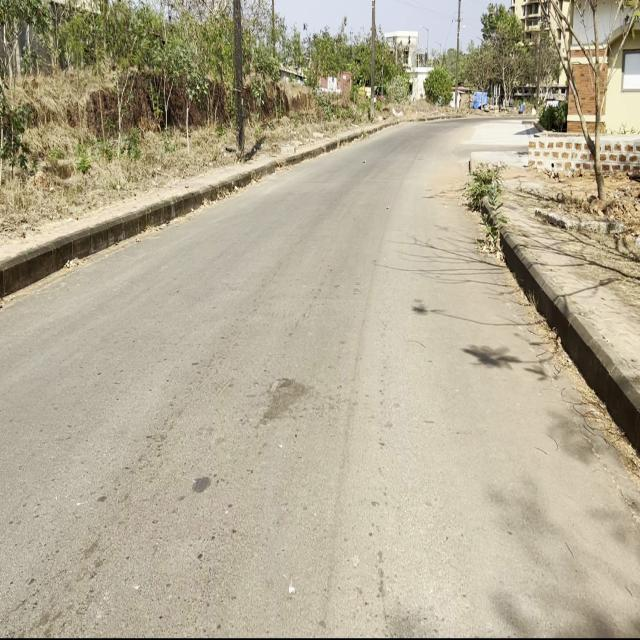Road: (0, 122, 640, 640)
